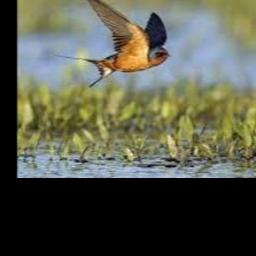Swallow: (55, 0, 170, 88)
